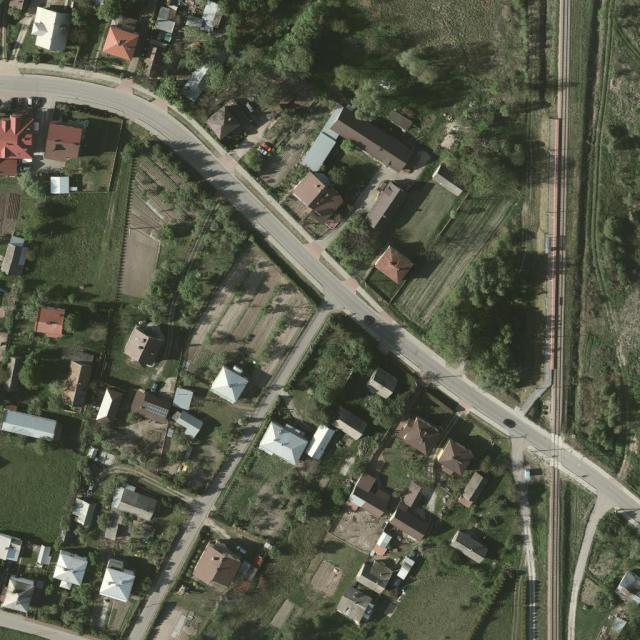building: (328, 457, 446, 576), (326, 103, 416, 175), (258, 420, 334, 467), (289, 166, 348, 224), (190, 537, 247, 596), (358, 177, 409, 235), (392, 410, 443, 459), (119, 324, 167, 372), (431, 437, 477, 482), (109, 481, 160, 521), (29, 6, 72, 53), (61, 350, 94, 411), (0, 409, 58, 442), (98, 557, 139, 602), (373, 245, 414, 286), (128, 388, 173, 425), (354, 556, 395, 596), (209, 364, 249, 405), (334, 586, 376, 625), (300, 131, 338, 174), (101, 24, 141, 61), (448, 530, 490, 565), (52, 549, 90, 587), (1, 574, 37, 614), (180, 61, 214, 103), (331, 407, 369, 442), (204, 105, 240, 141), (94, 387, 125, 428), (364, 367, 400, 402), (0, 243, 29, 279), (33, 307, 65, 339), (171, 410, 204, 440), (460, 471, 489, 505), (197, 0, 225, 35), (68, 497, 97, 528), (0, 534, 23, 563), (393, 555, 416, 581), (171, 387, 194, 411), (36, 544, 54, 567), (157, 6, 177, 23), (376, 531, 393, 550)
greenland: (200, 0, 555, 406), (0, 118, 327, 454), (280, 325, 376, 438), (0, 436, 85, 542), (4, 284, 67, 410), (338, 361, 418, 447), (366, 438, 441, 508)
metalled_road: (550, 0, 572, 440), (549, 466, 561, 640), (530, 579, 540, 640)
